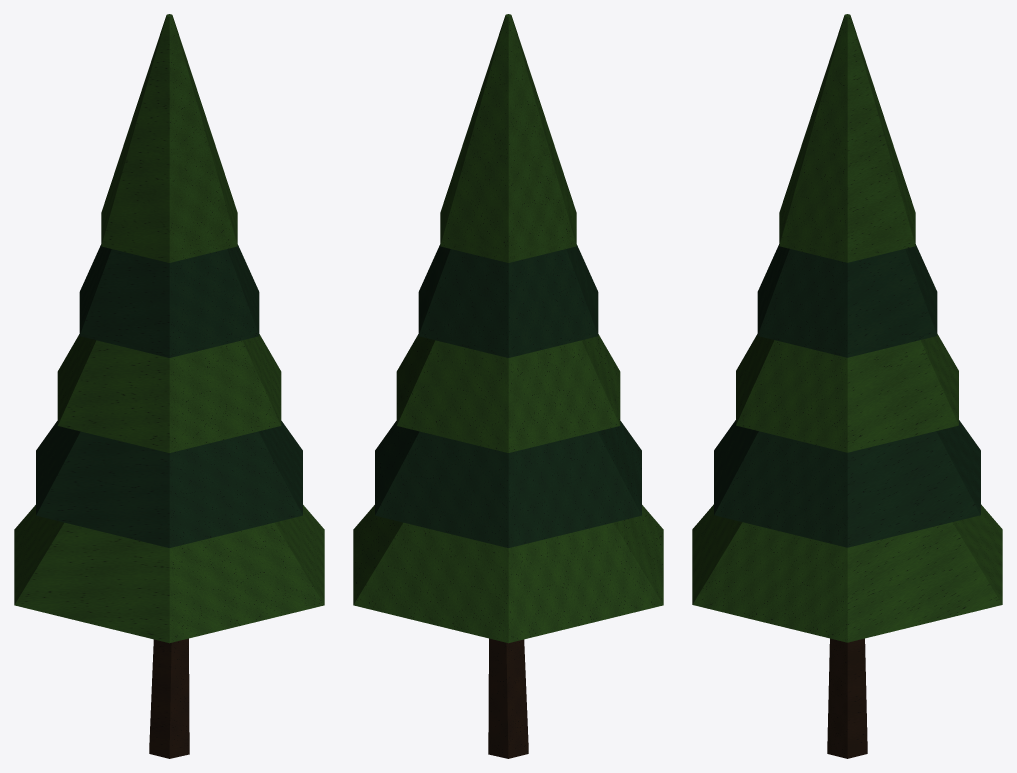
File: PROP-2146154934F5_lod2.glb
The picture shows the model from 3 angles, left to right: view 1: azimuth 30°, elevation 25°; view 2: azimuth 150°, elevation 25°; view 3: azimuth 270°, elevation 25°; orthographic projection.
Visible parts, largest first — view 1: layered_conifer_crown.044, layered_conifer_crown.045, trunk.064; view 2: layered_conifer_crown.044, layered_conifer_crown.045, trunk.064; view 3: layered_conifer_crown.044, layered_conifer_crown.045, trunk.064.
Boxes of the visible parts, x1,y1,x2,y2 form: layered_conifer_crown.044: [14, 14, 324, 643]; layered_conifer_crown.045: [36, 244, 302, 547]; trunk.064: [149, 638, 189, 758]; layered_conifer_crown.044: [353, 14, 663, 643]; layered_conifer_crown.045: [375, 244, 641, 547]; trunk.064: [488, 638, 528, 758]; layered_conifer_crown.044: [692, 14, 1002, 642]; layered_conifer_crown.045: [714, 244, 980, 547]; trunk.064: [827, 638, 867, 758].
Size of the model in its own units: 3.71 by 8.39 by 3.21.
3 materials, 3 textured.
